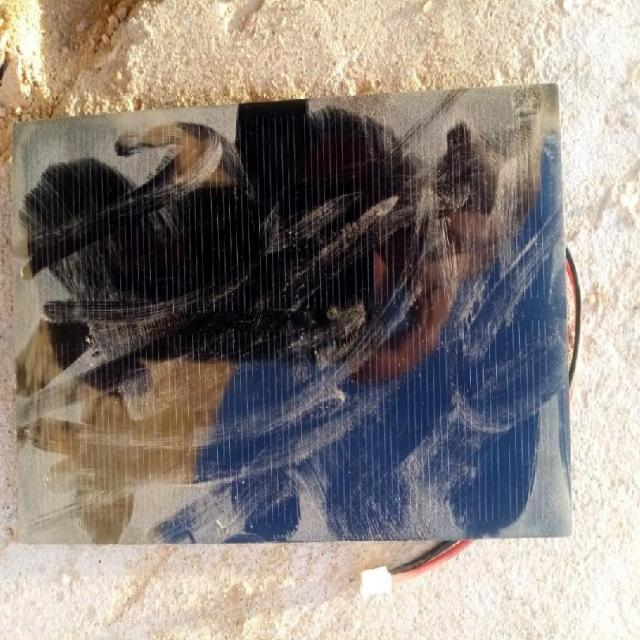faulty: (14, 90, 569, 536)
